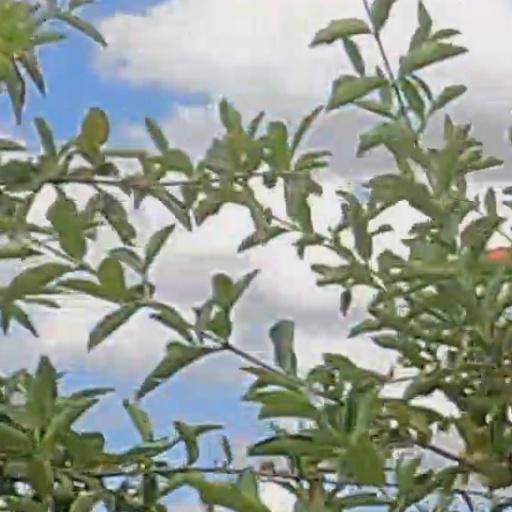acerola: (490, 247, 512, 265)
